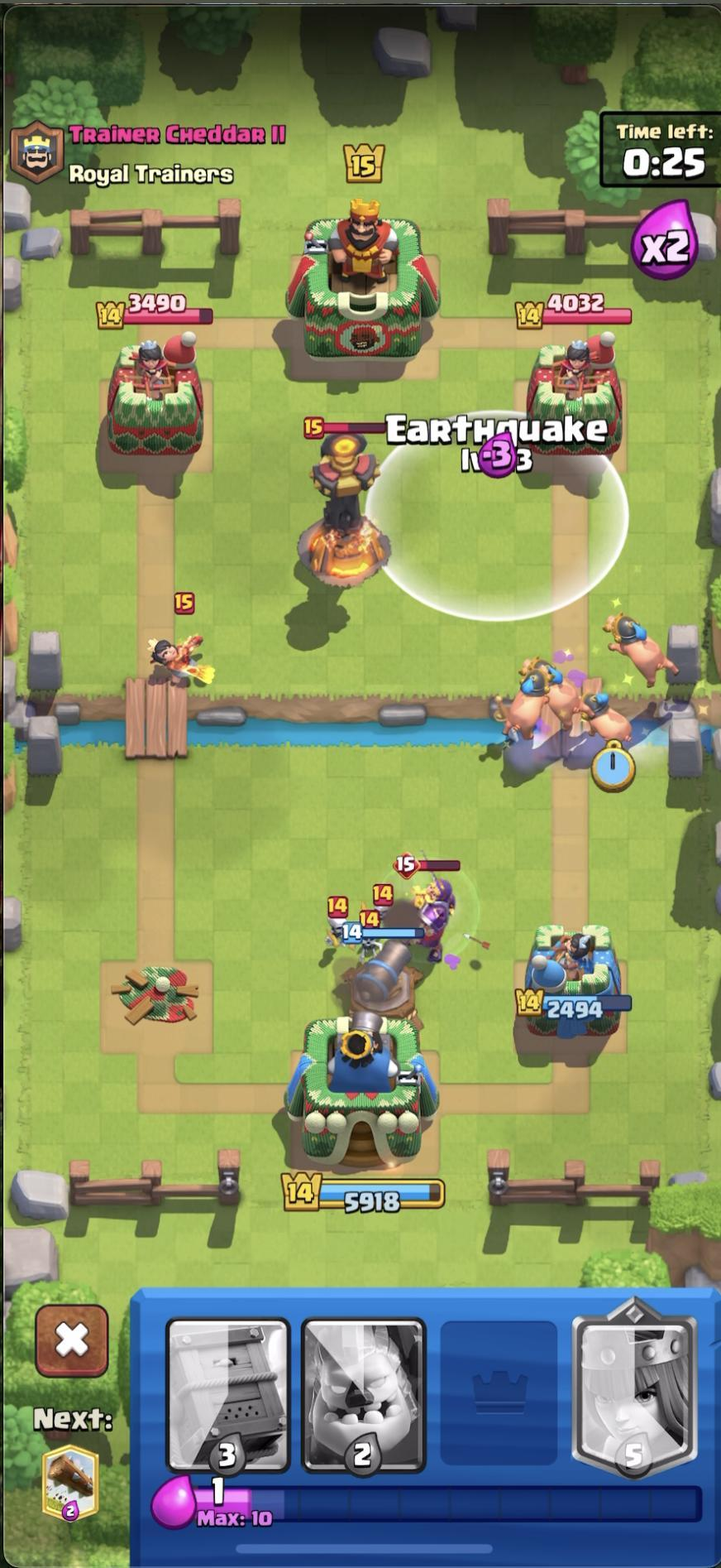card_archerqueen: (571, 1295, 700, 1481)
card_icegolem: (302, 1315, 432, 1477)
card_log: (38, 1443, 105, 1524)
card_royaldelivery: (166, 1315, 293, 1477)
